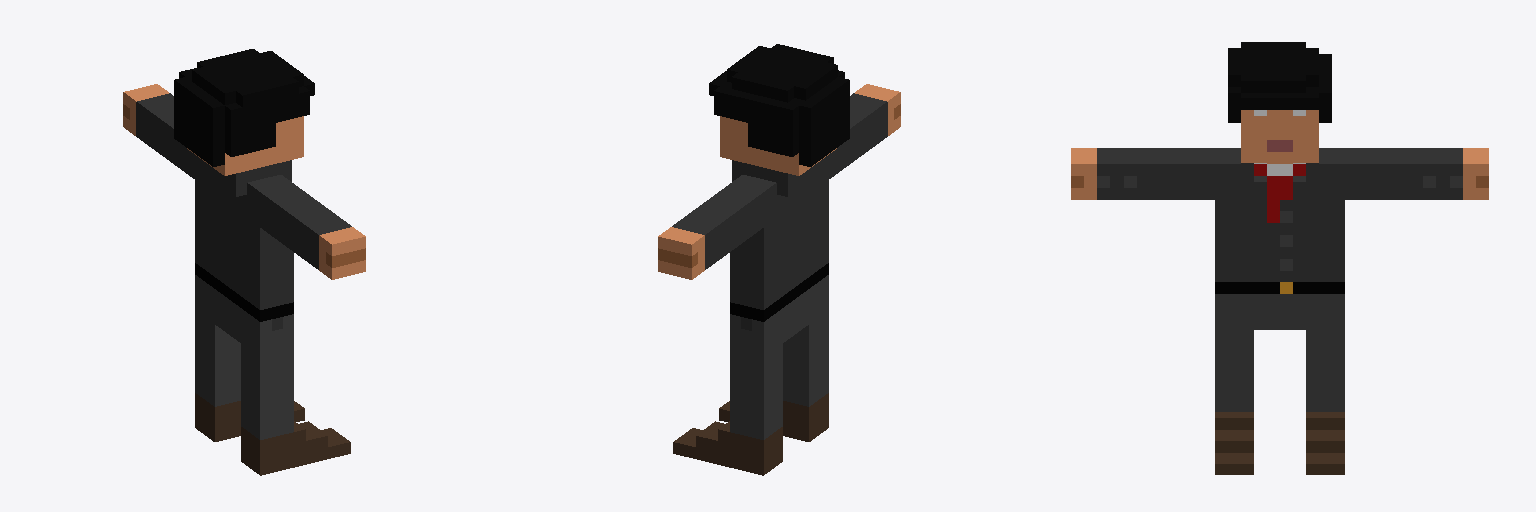
3 views of the same model, side by side, from view 1: azimuth 30°, elevation 25°; view 2: azimuth 150°, elevation 25°; view 3: azimuth 270°, elevation 25° (orthographic).
Visible parts, largest first — view 1: object 1; view 2: object 1; view 3: object 1.
Boxes of the visible parts, x1=… form: object 1: x1=123, y1=49, x2=365, y2=475; object 1: x1=658, y1=44, x2=900, y2=475; object 1: x1=1071, y1=42, x2=1488, y2=474.
Size of the model in its own units: 1.1 by 3.2 by 3.2.
Materials: 1 (1 with a texture image).